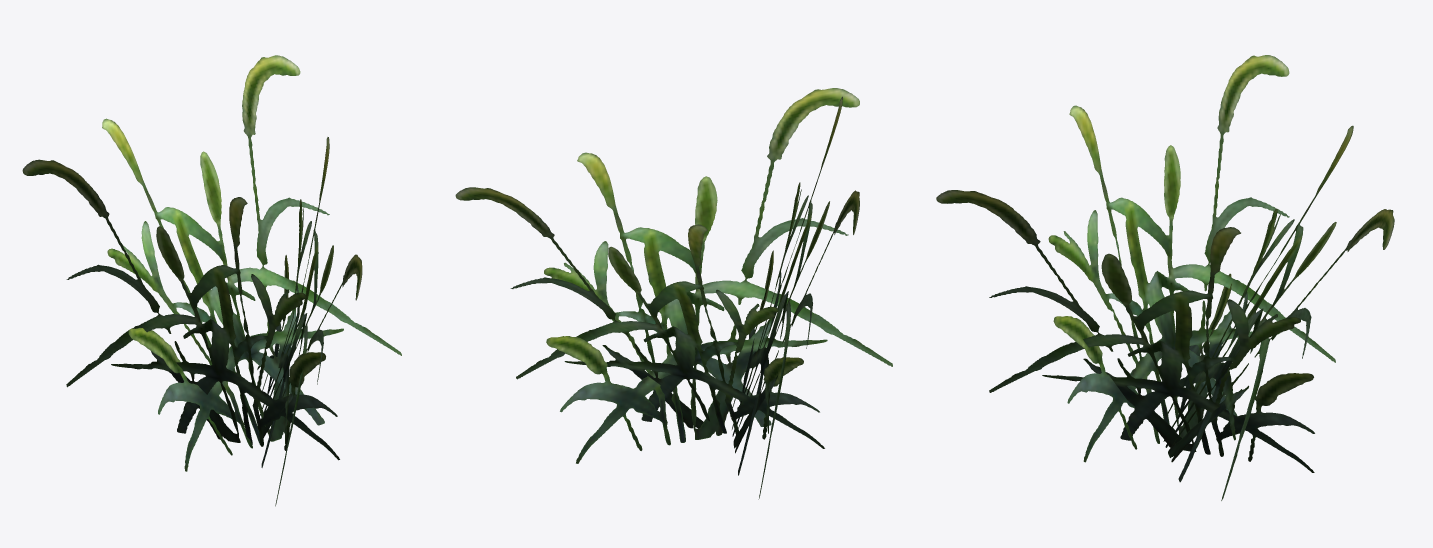
The model's file is wm_灌木狗尾草01.fbx.
3 renders of one model, left to right at view 1: azimuth 30°, elevation 25°; view 2: azimuth 150°, elevation 25°; view 3: azimuth 270°, elevation 25°, orthographic. The views are drawn at different scales.
Visible parts, largest first — view 1: wm_灌木狗尾草01; view 2: wm_灌木狗尾草01; view 3: wm_灌木狗尾草01.
Boxes of the visible parts, x1=… form: wm_灌木狗尾草01: x1=22, y1=55, x2=401, y2=506; wm_灌木狗尾草01: x1=455, y1=88, x2=892, y2=499; wm_灌木狗尾草01: x1=936, y1=55, x2=1394, y2=500.
Size of the model in its own units: 136 by 123 by 154.
